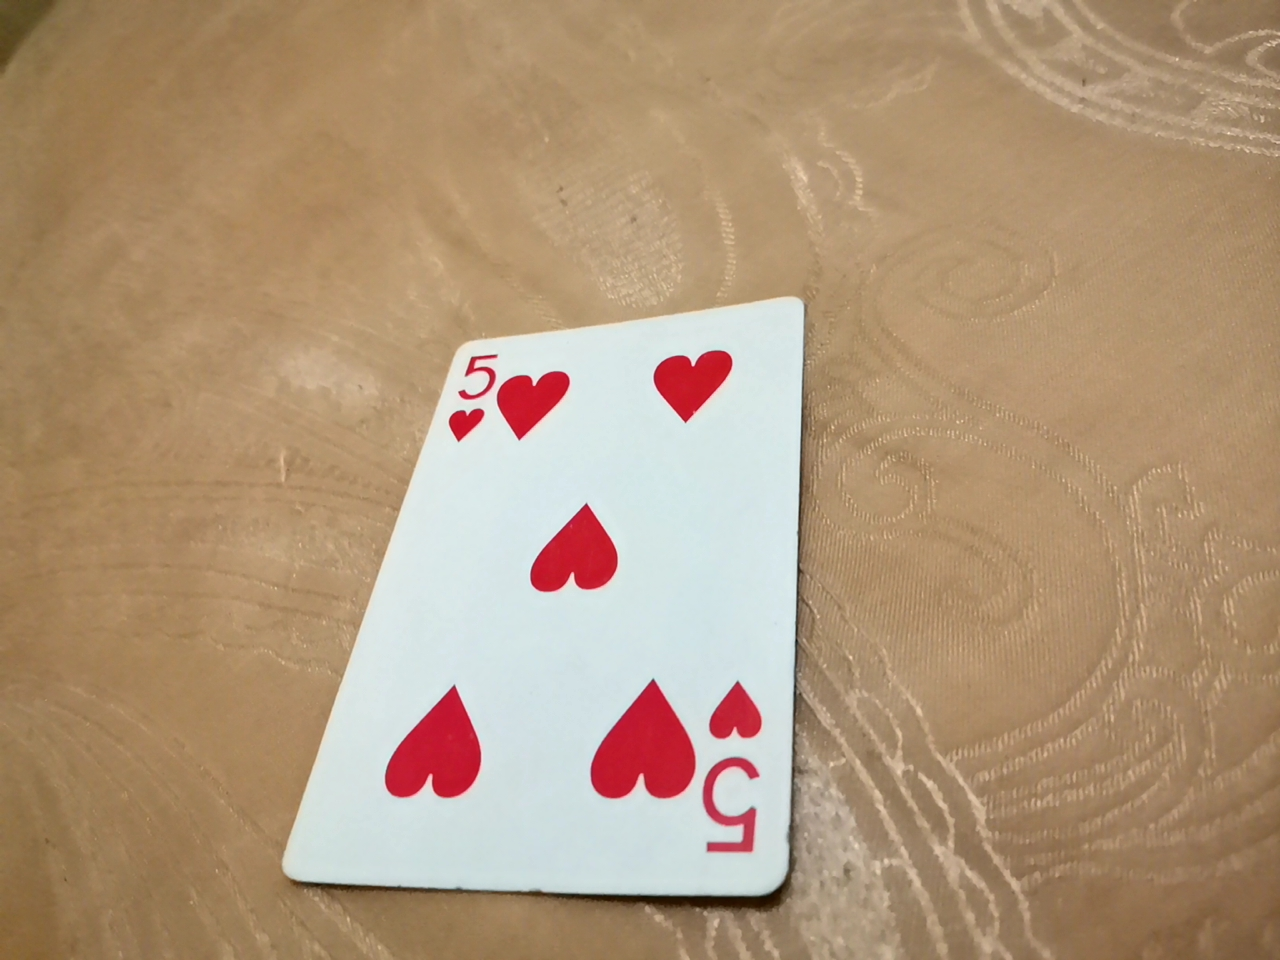hx 5: (289, 298, 797, 942)
